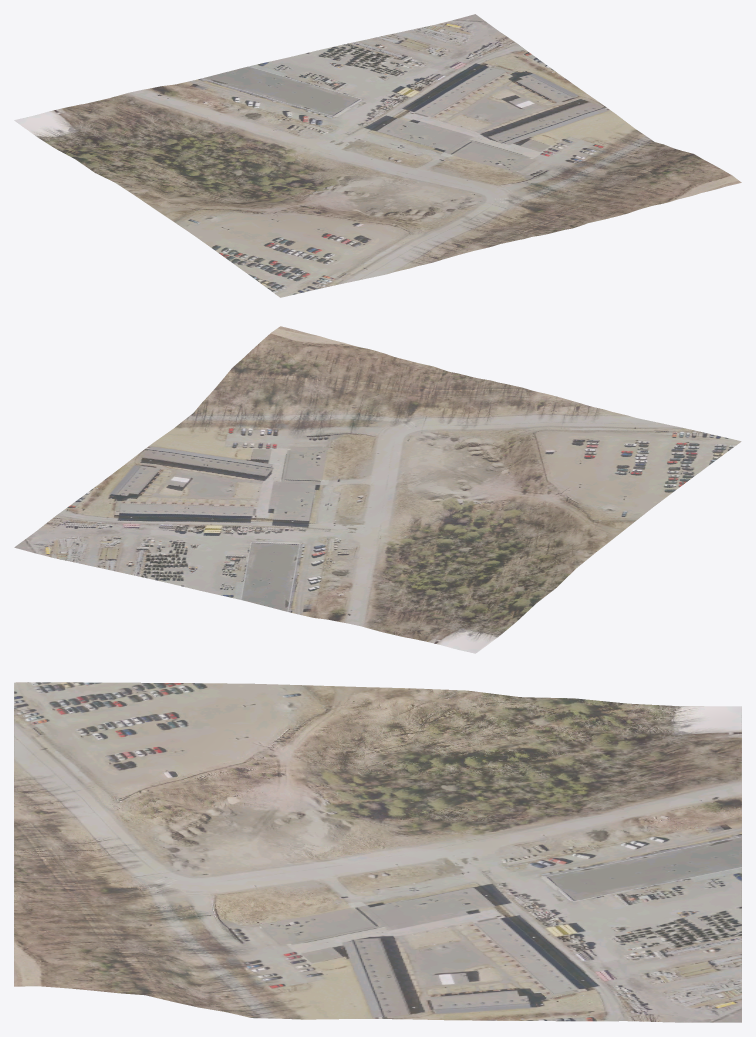
Rendered from CM_Terrain_24492506_6816312.fbx.
3 views of the same model, one above another, from view 1: azimuth 30°, elevation 25°; view 2: azimuth 150°, elevation 25°; view 3: azimuth 270°, elevation 25° (orthographic). The views are drawn at different scales.
Parts seen in each view (by area): view 1: CM_Terrain_24492506_6816312_LOD0; view 2: CM_Terrain_24492506_6816312_LOD0; view 3: CM_Terrain_24492506_6816312_LOD0.
Part boxes in pixels (left/top/right/bottom): CM_Terrain_24492506_6816312_LOD0: left=14, top=14, right=741, bottom=297; CM_Terrain_24492506_6816312_LOD0: left=14, top=326, right=741, bottom=653; CM_Terrain_24492506_6816312_LOD0: left=14, top=682, right=741, bottom=1022.
Size of what is drawn, in the model's own units: 205 by 11.62 by 205.
